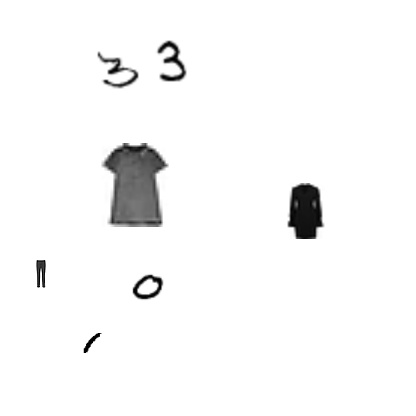2: (210, 255, 224, 269)
5: (336, 226, 392, 282), (64, 272, 106, 314), (5, 134, 27, 156)
7: (201, 289, 257, 345)
Dress: (141, 312, 183, 354)
Sneaker: (88, 78, 116, 106)
T-shirt/top: (204, 186, 218, 200)
